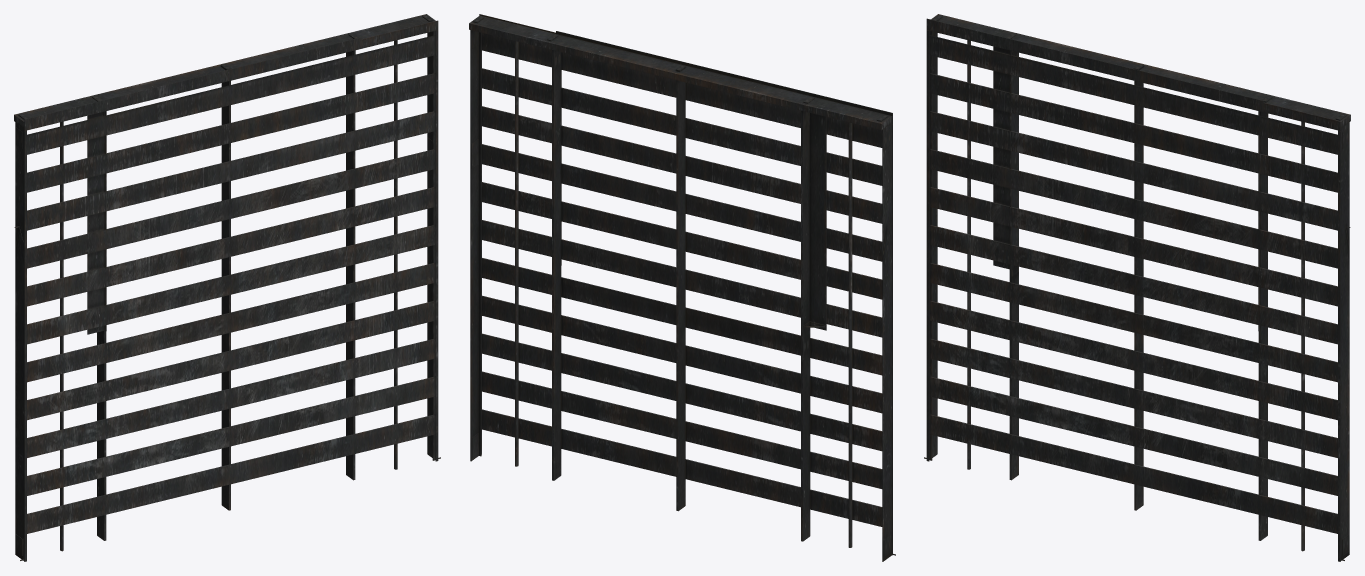
Rendered from steel_deck.obj.
3 renders of one model, left to right at view 1: azimuth 30°, elevation 25°; view 2: azimuth 150°, elevation 25°; view 3: azimuth 330°, elevation 25°, orthographic.
Parts seen in each view (by area): view 1: modular_fire_escape_platform_bottom; view 2: modular_fire_escape_platform_bottom; view 3: modular_fire_escape_platform_bottom.
Boxes of the visible parts, x1,y1,x2,y2 form: modular_fire_escape_platform_bottom: [14, 14, 440, 561]; modular_fire_escape_platform_bottom: [469, 14, 895, 561]; modular_fire_escape_platform_bottom: [924, 14, 1350, 561].
Bounding box in the file's own units: 4 × 4 × 0.18.
1 material, 1 textured.
